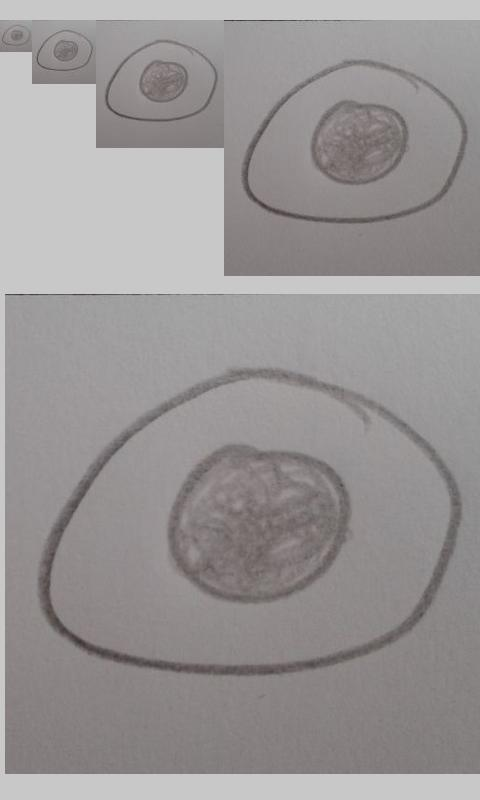radio_button: (35, 363, 466, 678), (240, 57, 468, 225), (105, 38, 220, 123), (35, 28, 93, 72), (1, 23, 31, 47)
